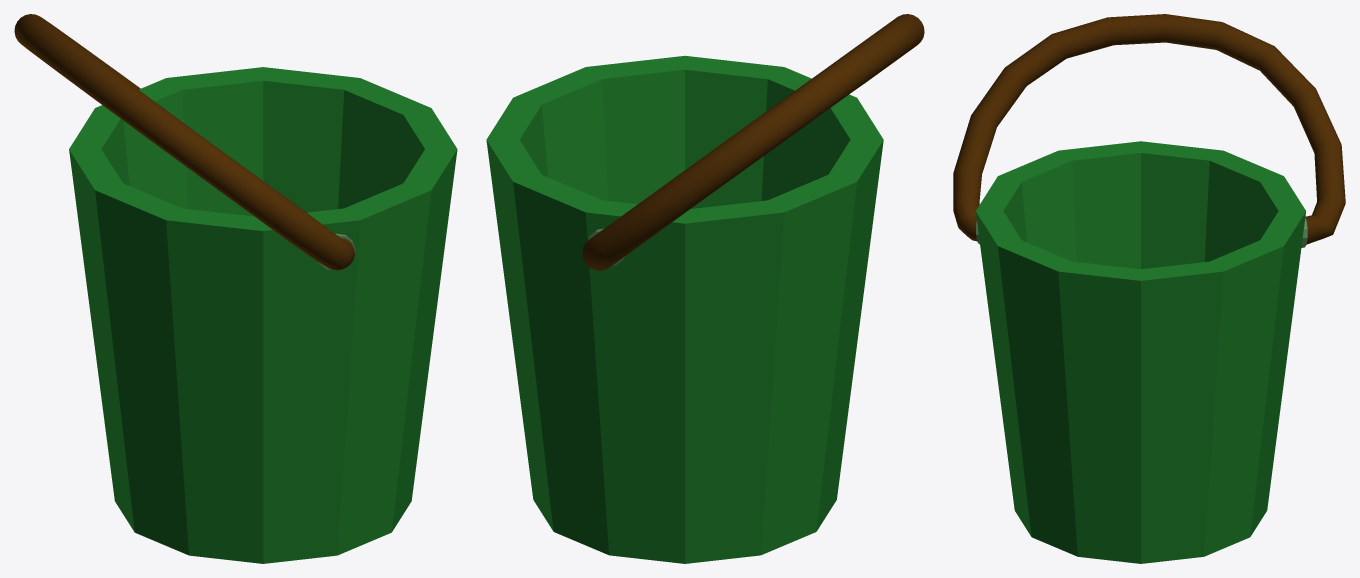
Rendered from balde.fbx.
3 views of the same model, side by side, from view 1: azimuth 30°, elevation 25°; view 2: azimuth 150°, elevation 25°; view 3: azimuth 270°, elevation 25° (orthographic). The views are drawn at different scales.
Parts seen in each view (by area): view 1: pCylinder1, pCylinder5; view 2: pCylinder1, pCylinder5; view 3: pCylinder1, pCylinder5.
Part boxes in pixels (bbox=[...]): pCylinder1: bbox=[69, 67, 457, 563]; pCylinder5: bbox=[14, 14, 354, 270]; pCylinder1: bbox=[486, 55, 883, 563]; pCylinder5: bbox=[582, 14, 924, 270]; pCylinder1: bbox=[975, 141, 1306, 563]; pCylinder5: bbox=[953, 14, 1345, 244].
Size of the model in its own units: 7.77 by 10.02 by 8.5.
